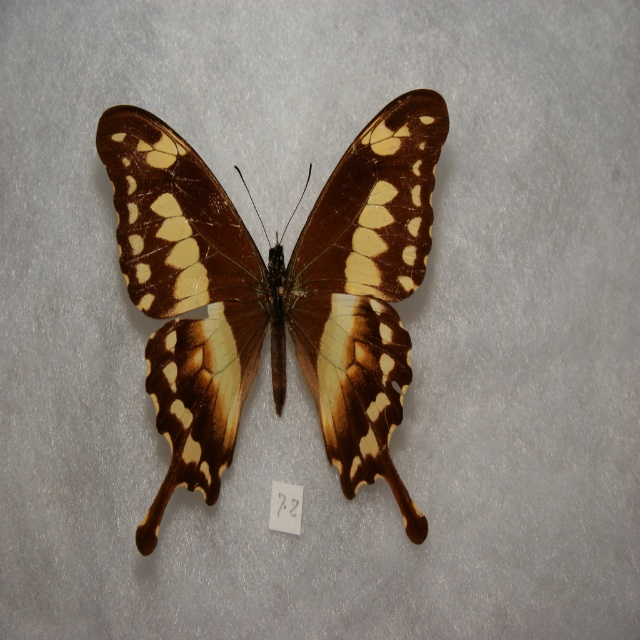Butterfly: (104, 85, 444, 575)
